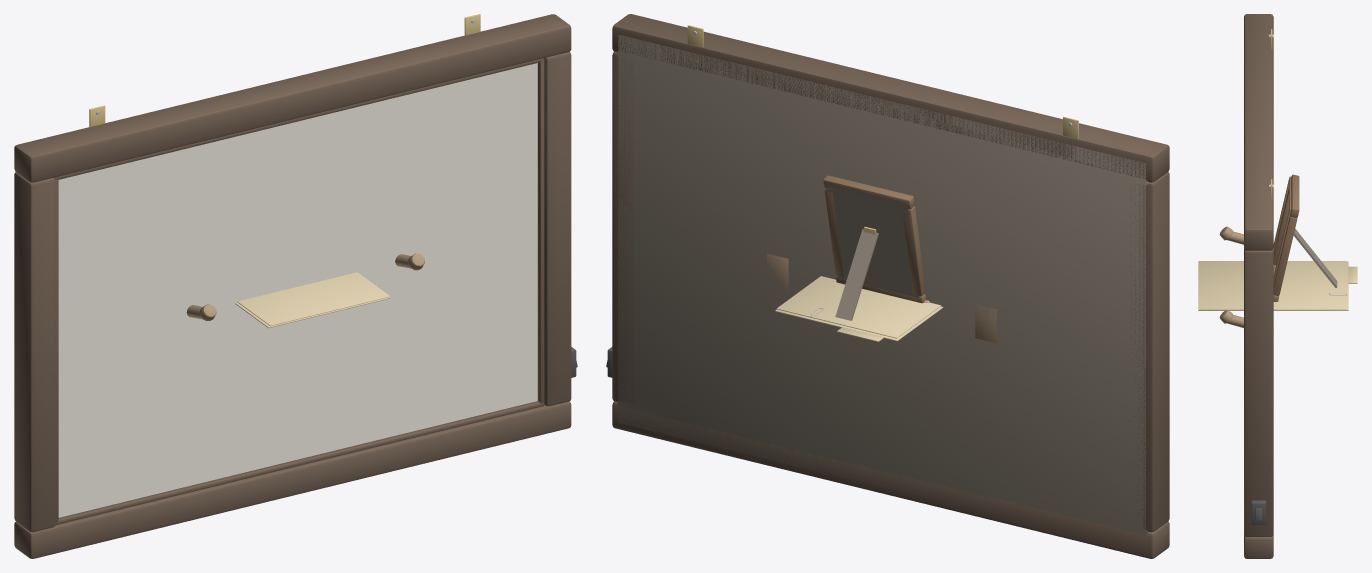
The model's file is cabin_story.glb.
The picture shows the model from 3 angles, left to right: view 1: azimuth 30°, elevation 25°; view 2: azimuth 150°, elevation 25°; view 3: azimuth 270°, elevation 25°; orthographic projection. The views are drawn at different scales.
Visible parts, largest first — view 1: PhotoBoardPanel, PhotoBoard, AssignmentFolder, AxePegs; view 2: PhotoBoard, PictureFrame, AssignmentFolder, AxePegs; view 3: PhotoBoard, AssignmentFolder, PictureFrame, AxePegs.
Boxes of the visible parts, x1,y1,x2,y2 form: PhotoBoardPanel: (58,63,537,517); PhotoBoard: (14,14,577,558); AssignmentFolder: (235,272,390,328); AxePegs: (186,253,424,320); PhotoBoard: (606,14,1169,558); PictureFrame: (823,175,925,320); AssignmentFolder: (775,276,943,341); AxePegs: (767,253,997,343); PhotoBoard: (1244,14,1273,558); AssignmentFolder: (1198,261,1357,310); PictureFrame: (1273,174,1337,301); AxePegs: (1219,226,1243,327).
Size of the model in its own units: 1.06 by 0.772 by 0.323.
